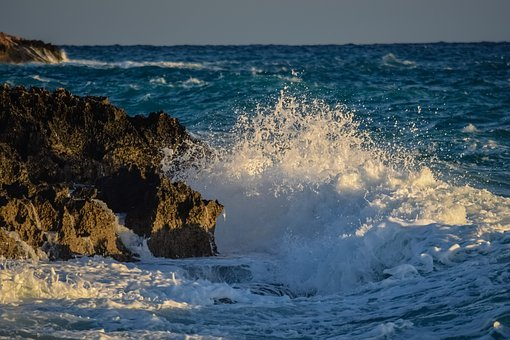sea: (46, 37, 510, 336)
stone: (9, 91, 195, 251)
